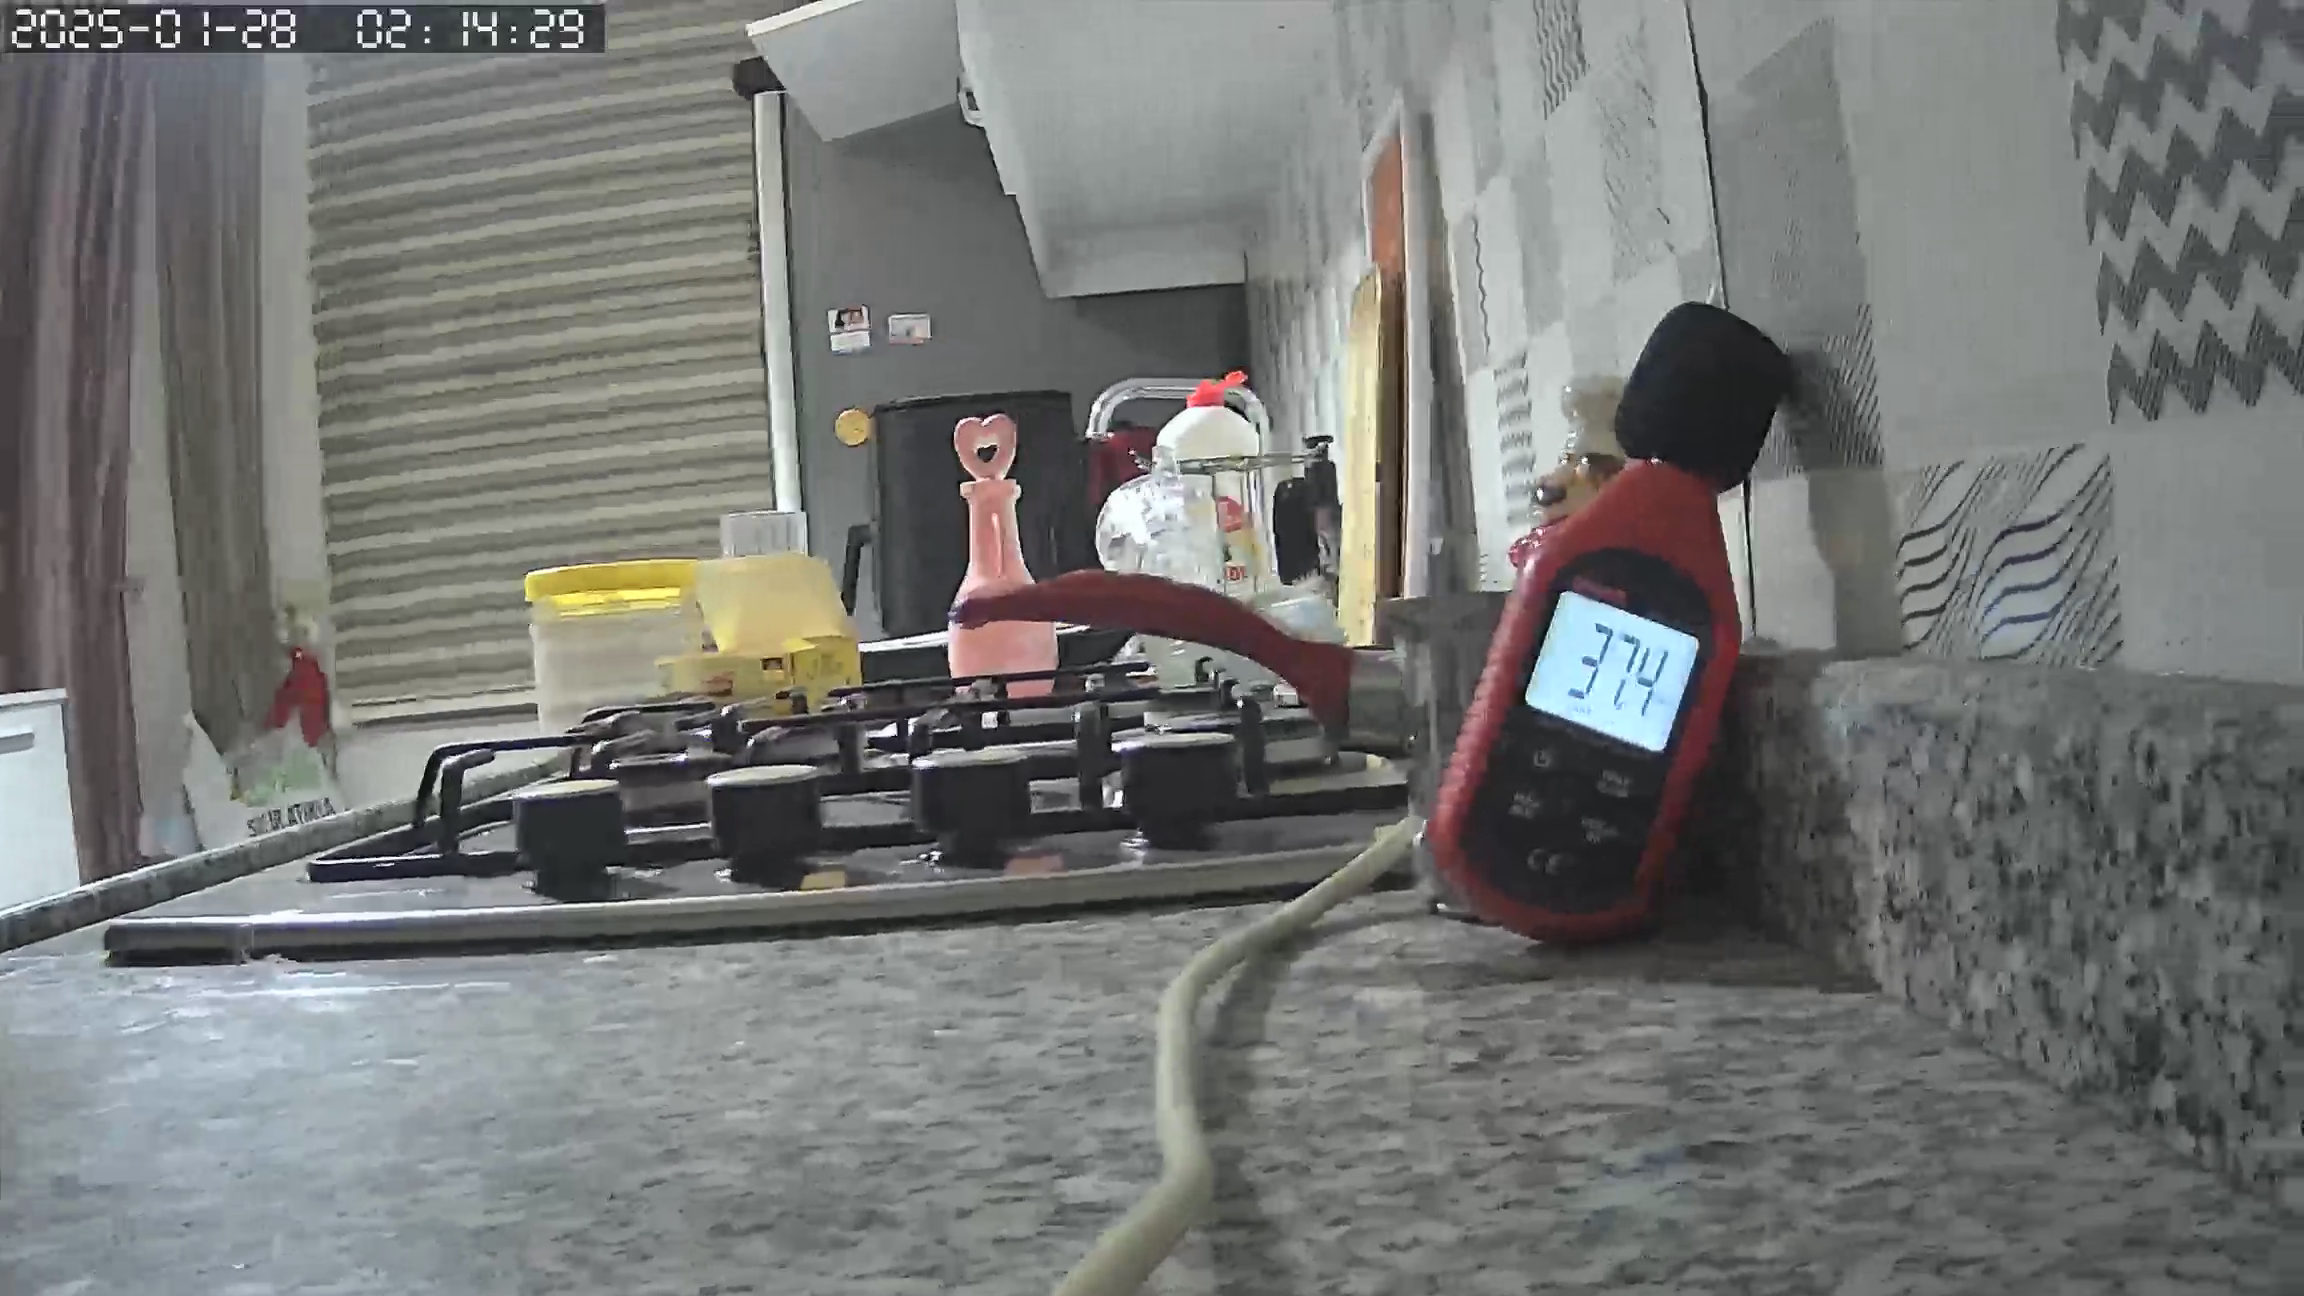screen: (1525, 590, 1698, 752)
